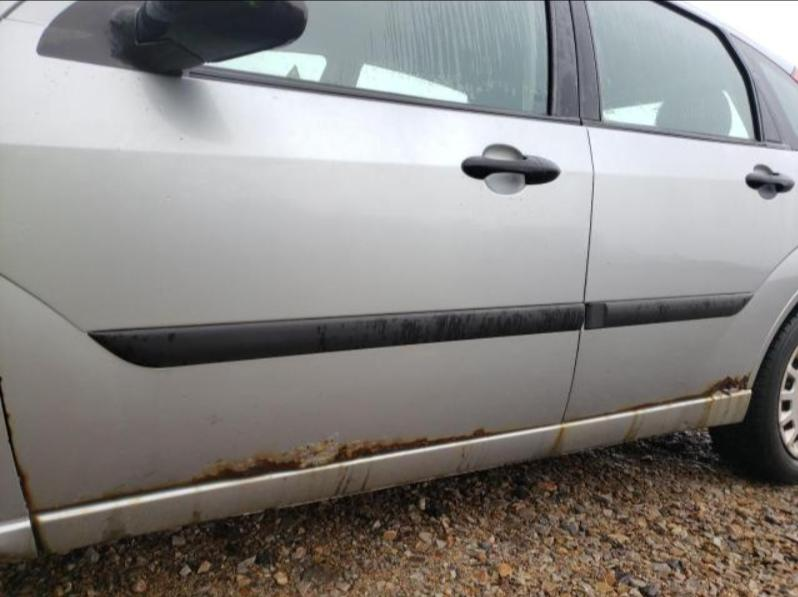Paint damage: (36, 426, 503, 514), (615, 371, 753, 441), (329, 460, 373, 497), (455, 440, 492, 474), (100, 510, 135, 541), (547, 424, 566, 456)
